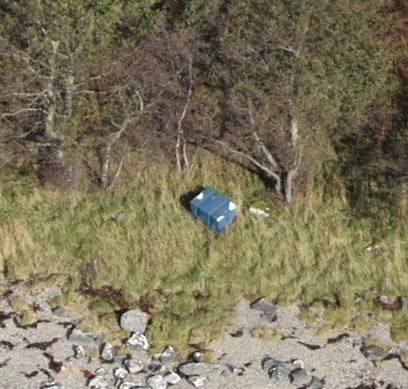cuboid: (184, 179, 247, 235)
